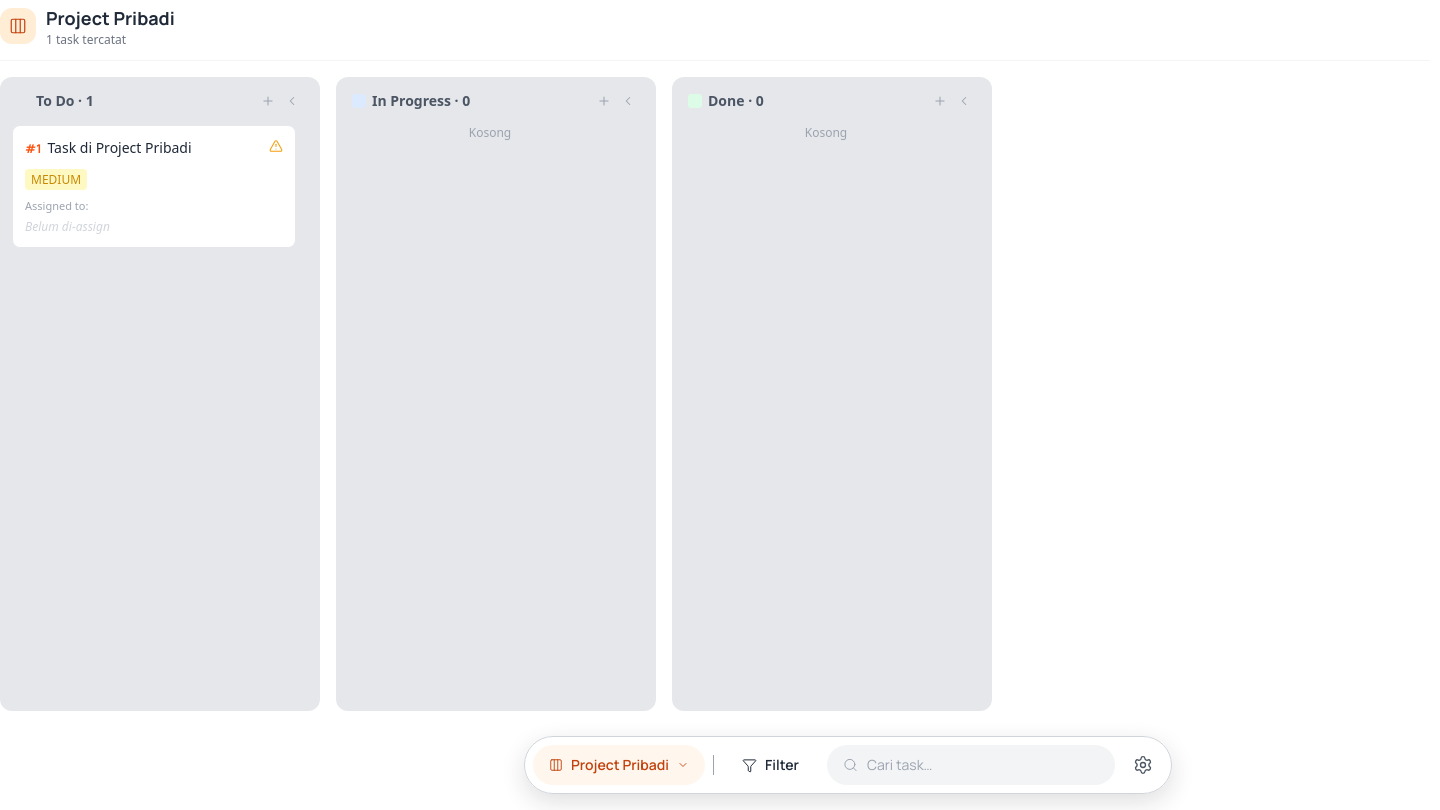
Test: PersonalProjectKanbanView — Project Switcher Dropup & Real-Time Board › mengganti project aktif saat salah satu project di dropup diklik
The width and height of the screenshot is (1440, 810).
Expected: the button "Task di Project Pribadi" is shown, [48, 138, 263, 158]
Click the button with aria-label "pilih project pribadi" at (619, 765), box [533, 745, 705, 785]
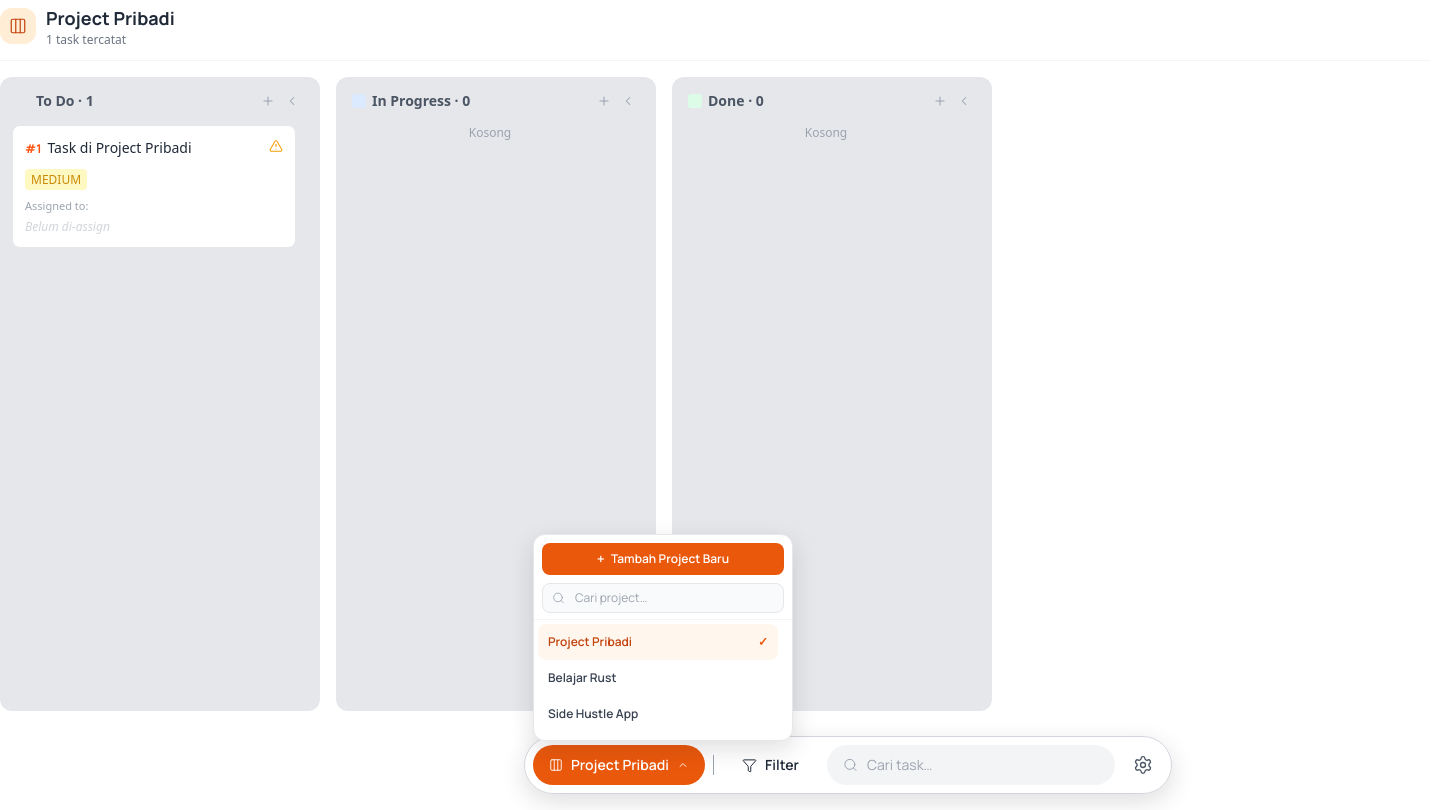
Click the menu item "Belajar Rust" at (658, 678), box [538, 660, 778, 696]
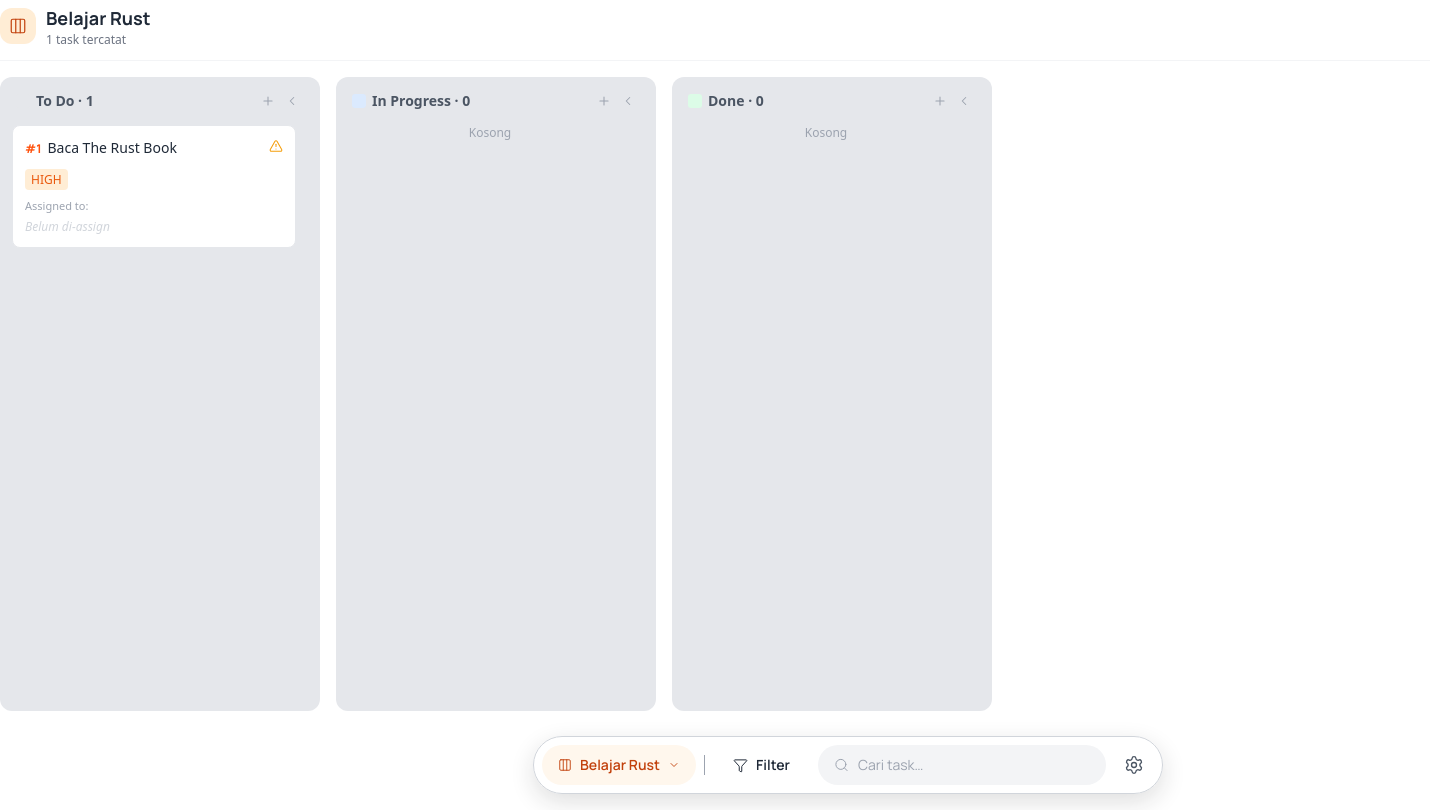
Expected: the button with aria-label "pilih project pribadi" reads "Belajar Rust", [542, 745, 696, 785]
Expected: the button "Baca The Rust Book" is shown, [48, 138, 263, 158]
